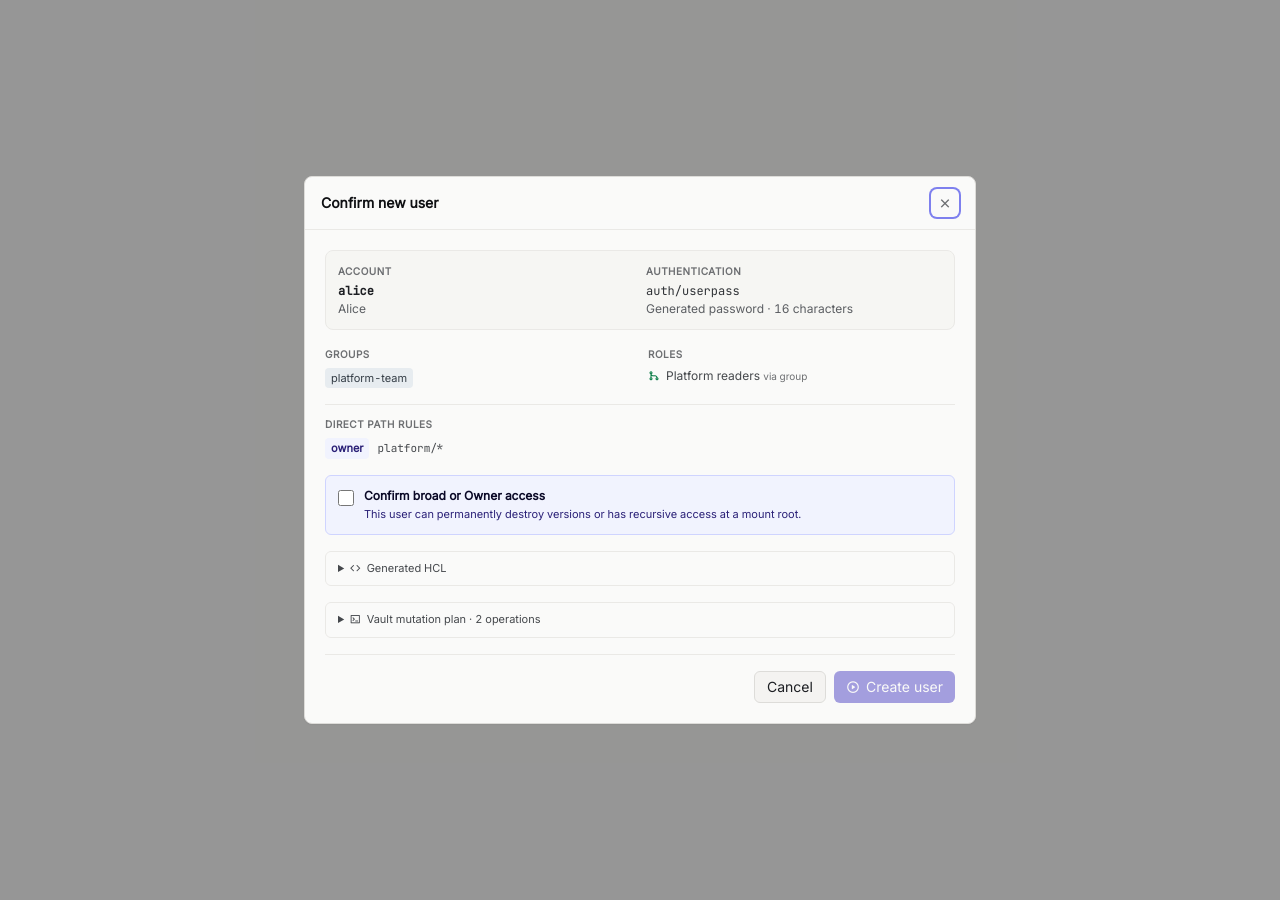
Test case: CreateUserWorkflowModal › requires dangerous-access confirmation and ends with a one-time handoff
Expected: the button "Create user" is disabled, [834,671,955,703]
Click the checkbox labelled "Confirm broad or Owner access": point(346, 498) [338,490,354,506]
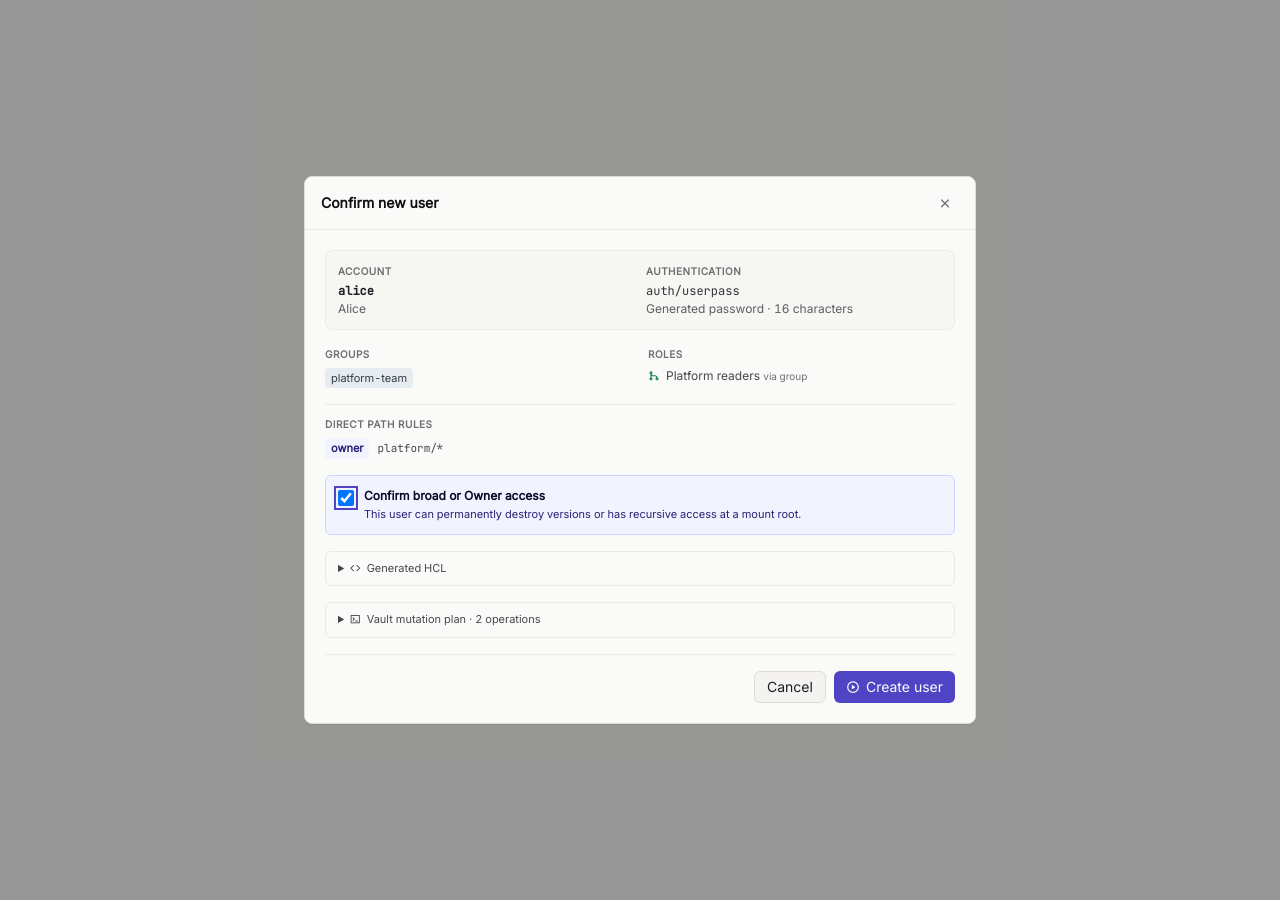
Click the button "Create user": point(894, 687) [834,671,955,703]
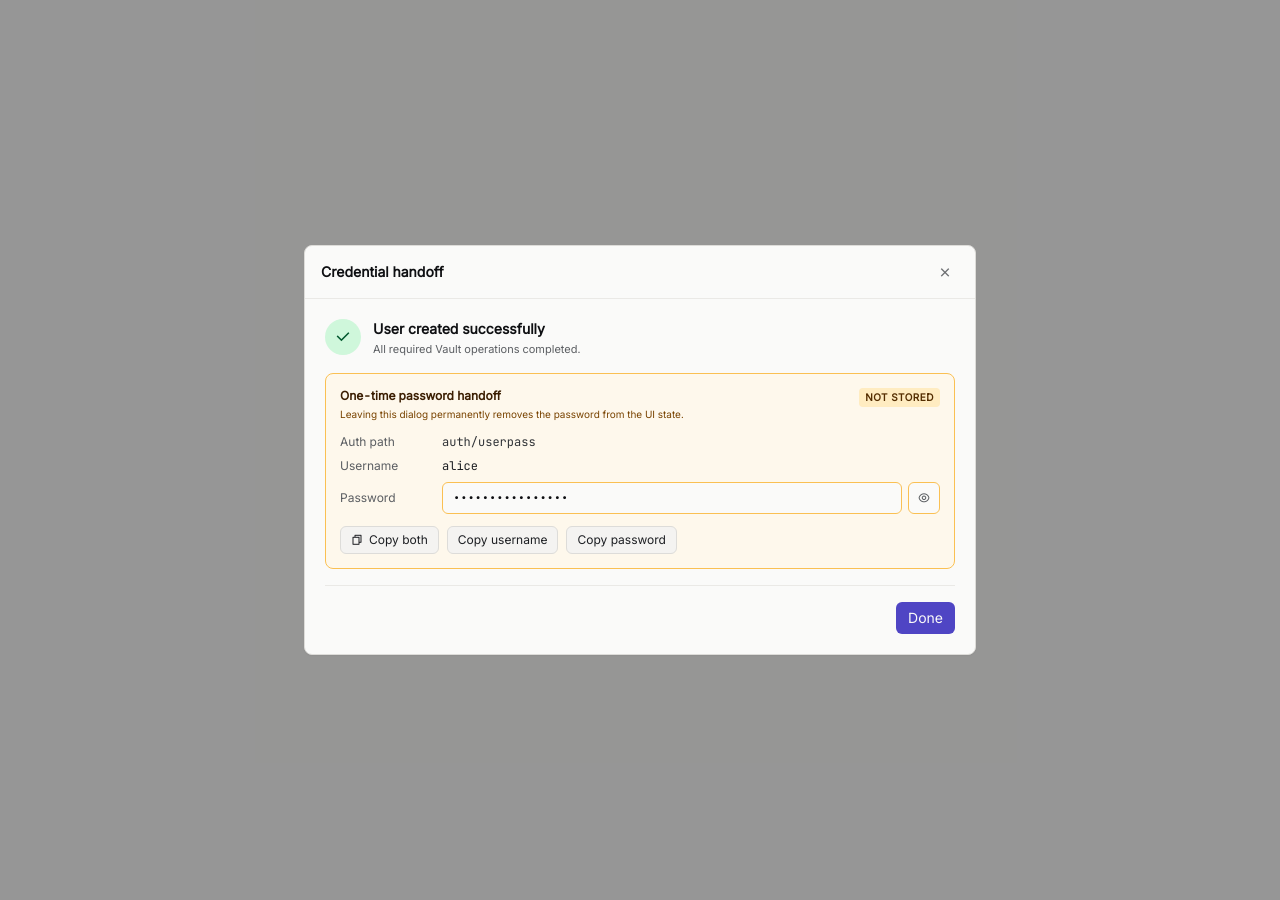
Expected: the heading "User created successfully" is shown, [373,320,545,337]
Expected: the password field named "Created user password" holds "Abcdefghijk2345!", [442,482,902,514]
